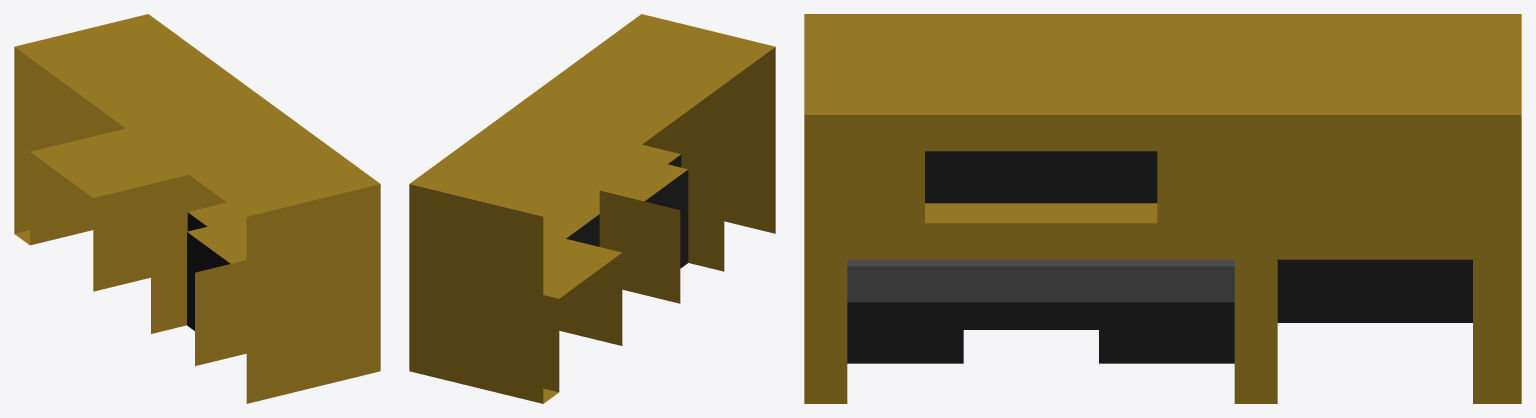
The model's file is Edificio-4.fbx.
The picture shows the model from 3 angles, left to right: view 1: azimuth 30°, elevation 25°; view 2: azimuth 150°, elevation 25°; view 3: azimuth 270°, elevation 25°; orthographic projection. The views are drawn at different scales.
Parts seen in each view (by area): view 1: Plane; view 2: Plane; view 3: Plane.
Part boxes in pixels (bbox=[...]): Plane: bbox=[14, 14, 380, 403]; Plane: bbox=[409, 14, 775, 403]; Plane: bbox=[804, 14, 1521, 403].
Size of the model in its own units: 320 by 400 by 900.
